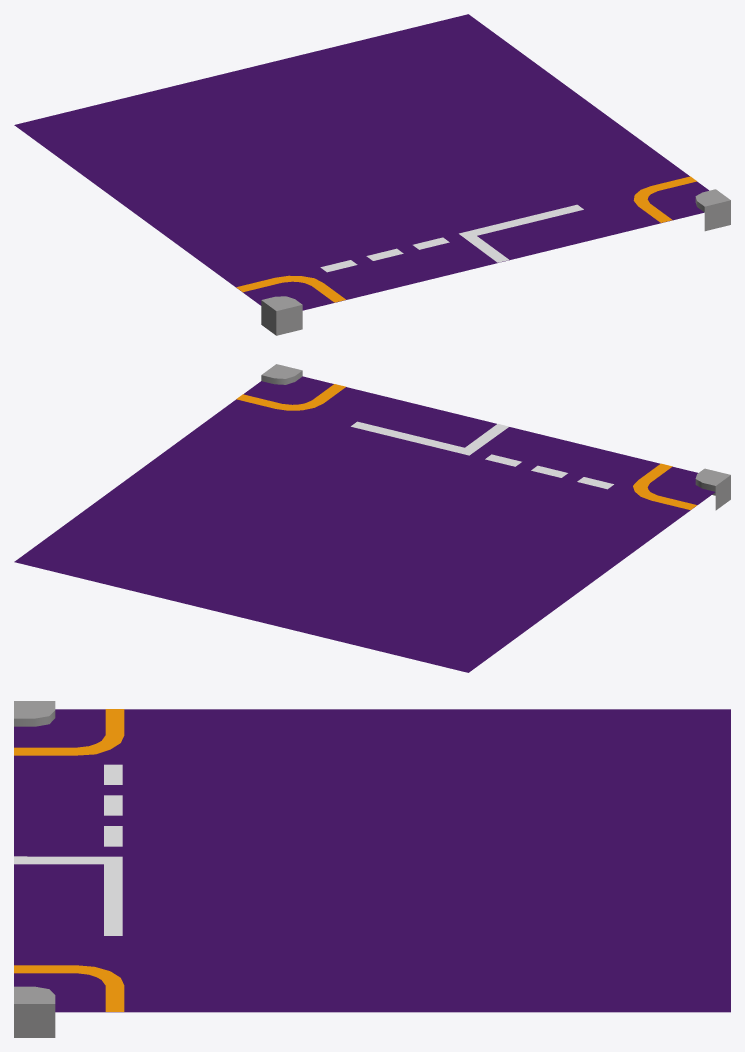
The model's file is ParkingRoad_C_1.glb.
3 renders of one model, top to bottom at view 1: azimuth 30°, elevation 25°; view 2: azimuth 150°, elevation 25°; view 3: azimuth 270°, elevation 25°, orthographic. The views are drawn at different scales.
Parts seen in each view (by area): view 1: ParkingRoad_C_1; view 2: ParkingRoad_C_1; view 3: ParkingRoad_C_1.
Boxes of the visible parts, x1,y1,x2,y2 form: ParkingRoad_C_1: (14,14,730,335); ParkingRoad_C_1: (14,364,730,672); ParkingRoad_C_1: (14,701,730,1037).
Bounding box in the file's own units: 8 × 0.4148 × 8.
Materials: 1 (1 with a texture image).
